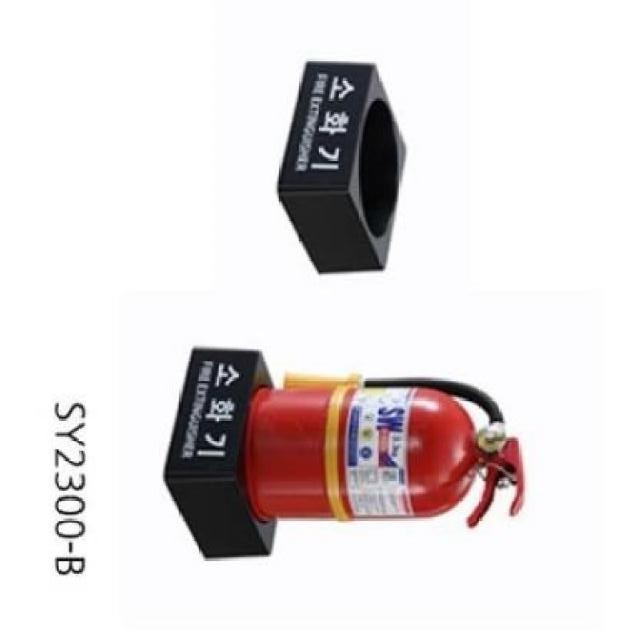fire extinguisher: (249, 370, 526, 528)
